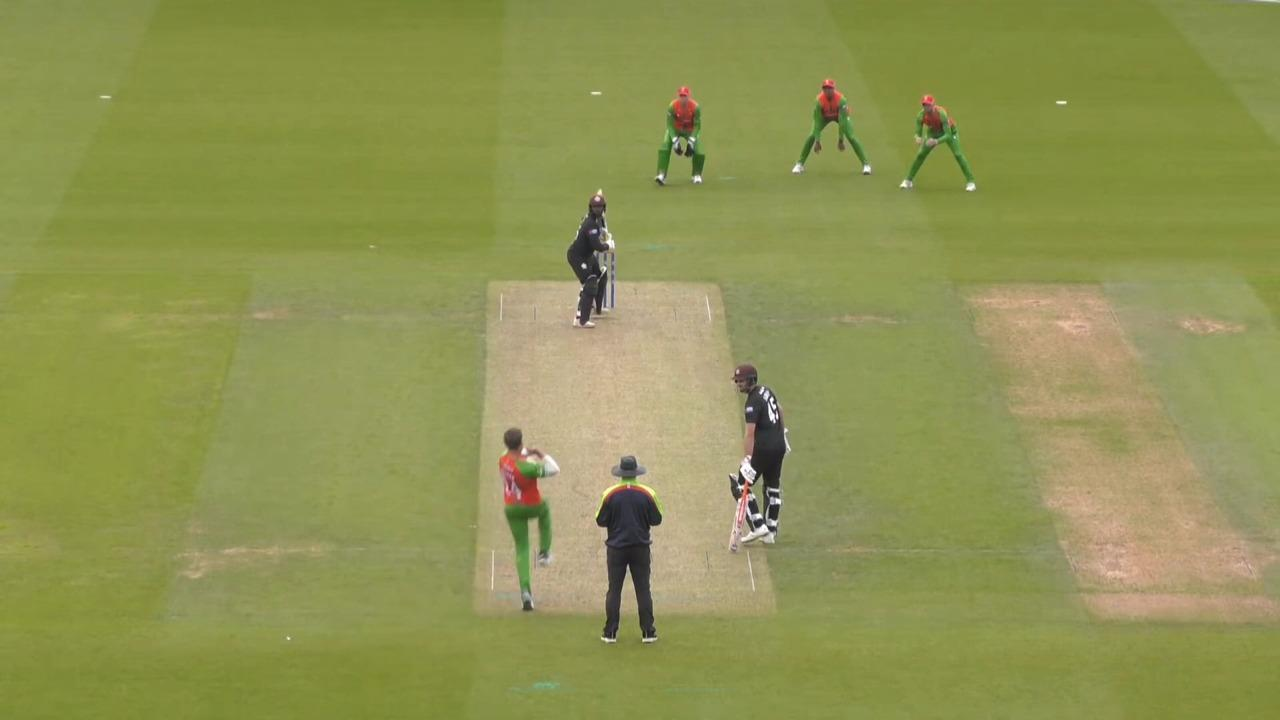sports ball: (521, 448, 528, 455)
